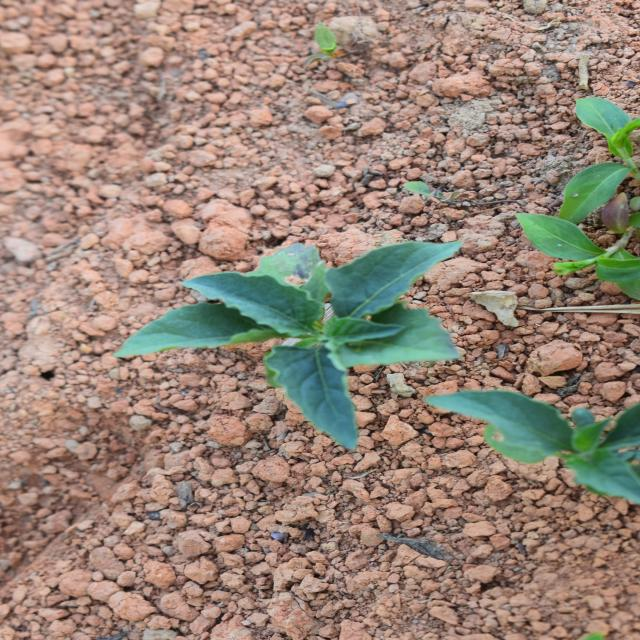Black_nightshade: (213, 123, 403, 458)
